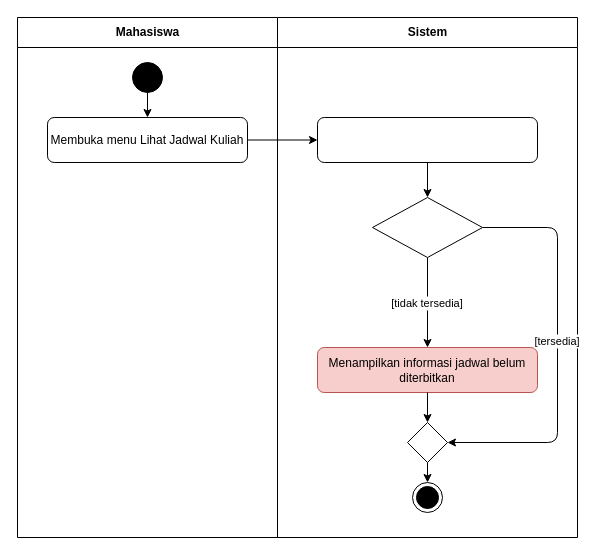
The diagram is 599 pixels wide and 555 high, and some of its shapes have lost their labels. The shapes that lost their labels are listed below. From the top down, each one's centre as x and y in pixels, then its label:
[427,139]: Mengambil dan menampilkan daftar jadwal kuliah mahasiswa
[427,227]: Jadwal kuliah tersedia?
